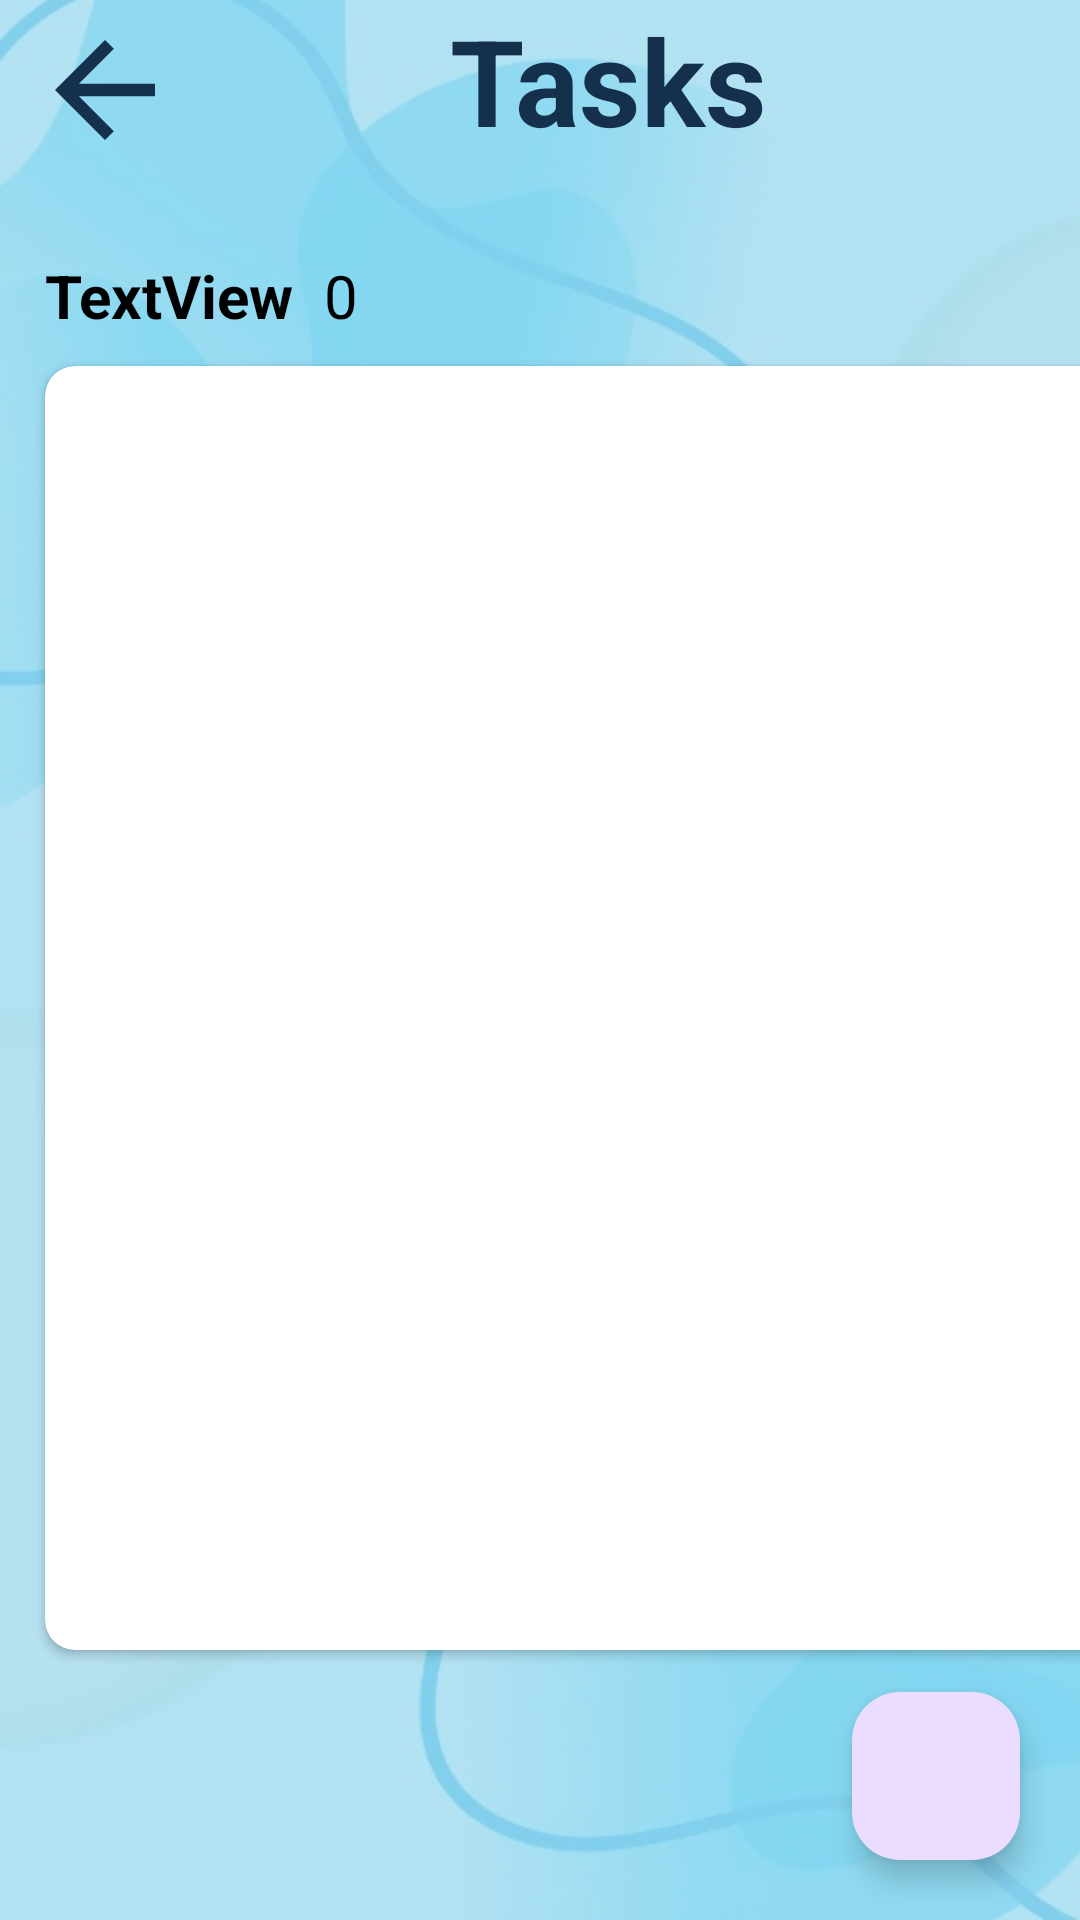

Where to tap for icons on this 1080 x 1920 app screen, as (x=x, y=y):
arrow back: (x=77, y=90)
